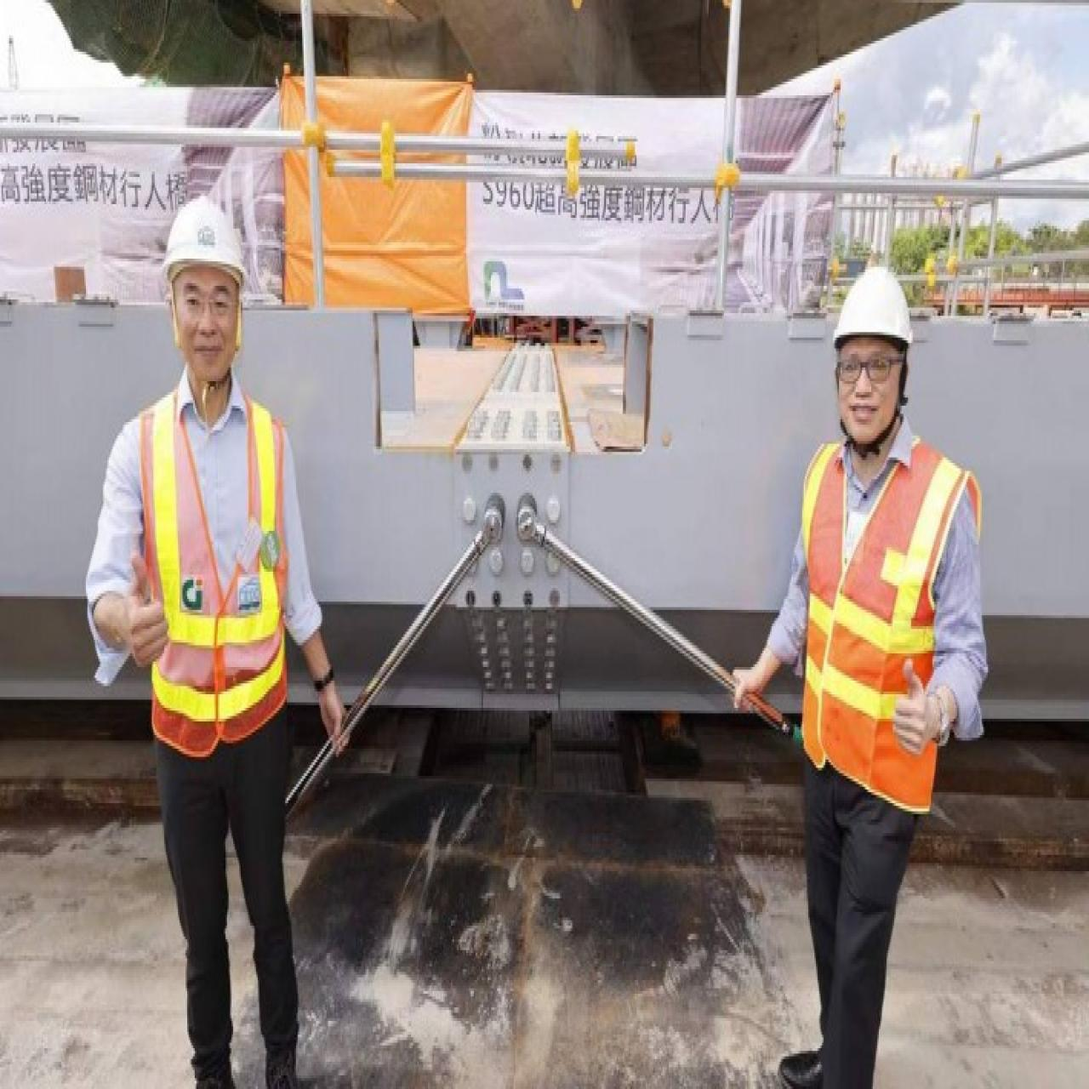Person: (78, 181, 356, 1089), (716, 241, 1006, 1089)
Safety_Vest: (797, 445, 984, 815), (130, 386, 301, 767)
